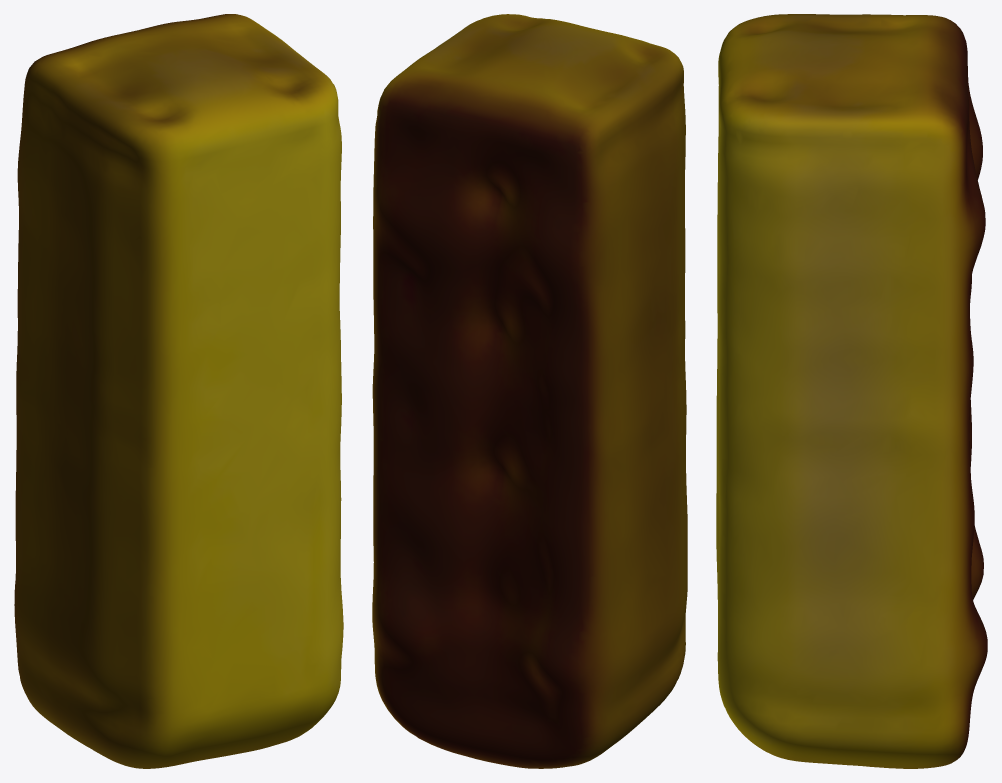
Rendered from school_bus1.glb.
The picture shows the model from 3 angles, left to right: view 1: azimuth 30°, elevation 25°; view 2: azimuth 150°, elevation 25°; view 3: azimuth 270°, elevation 25°; orthographic projection. The views are drawn at different scales.
Size of the model in its own units: 0.3703 by 0.9998 by 0.3539.
